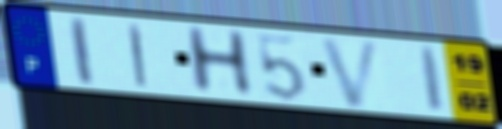5: (253, 32, 310, 102)
H: (181, 24, 258, 96)
I: (65, 14, 97, 87), (417, 44, 448, 116), (125, 21, 150, 89)
V: (316, 35, 385, 109)
